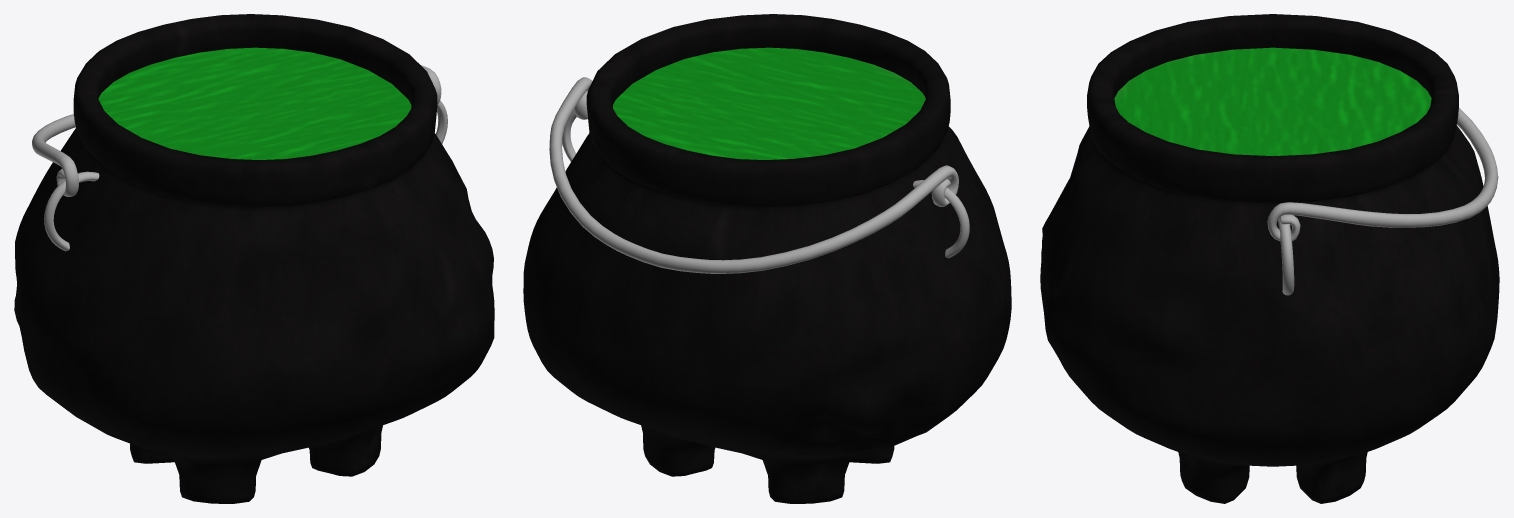
File: Witch's Cauldron upgrade1 1.fbx
The picture shows the model from 3 angles, left to right: view 1: azimuth 30°, elevation 25°; view 2: azimuth 150°, elevation 25°; view 3: azimuth 270°, elevation 25°; orthographic projection.
Parts seen in each view (by area): view 1: PM3D_pasted__pSphere1_2, pasted__pDisc1, pCylinder8, pCylinder10; view 2: PM3D_pasted__pSphere1_2, pasted__pDisc1, pCylinder8, pCylinder10; view 3: PM3D_pasted__pSphere1_2, pasted__pDisc1, pCylinder8, pCylinder9.
Boxes of the visible parts, box(x1,y1,x2,y2) form: PM3D_pasted__pSphere1_2: box(14, 14, 494, 503); pasted__pDisc1: box(98, 47, 411, 159); pCylinder8: box(32, 65, 441, 196); pCylinder10: box(44, 171, 99, 251); PM3D_pasted__pSphere1_2: box(523, 14, 1011, 503); pasted__pDisc1: box(613, 47, 925, 159); pCylinder8: box(549, 77, 958, 273); pCylinder10: box(913, 180, 969, 258); PM3D_pasted__pSphere1_2: box(1040, 14, 1499, 503); pasted__pDisc1: box(1114, 47, 1431, 155); pCylinder8: box(1267, 108, 1498, 241); pCylinder9: box(1278, 218, 1294, 295).
Bounding box in the file's own units: 261 × 221 × 248.
